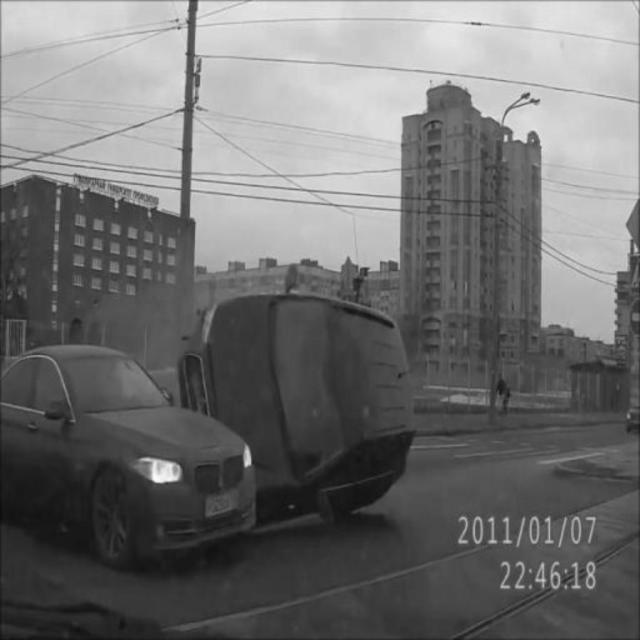accident: (0, 297, 418, 560)
